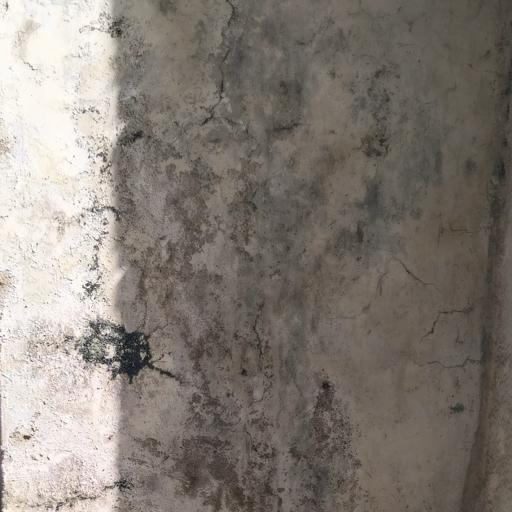stain: (69, 18, 437, 512)
